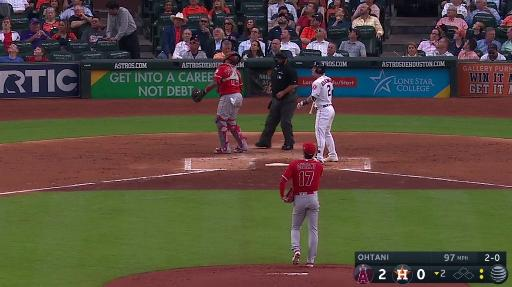pitcher: (280, 142, 325, 268)
